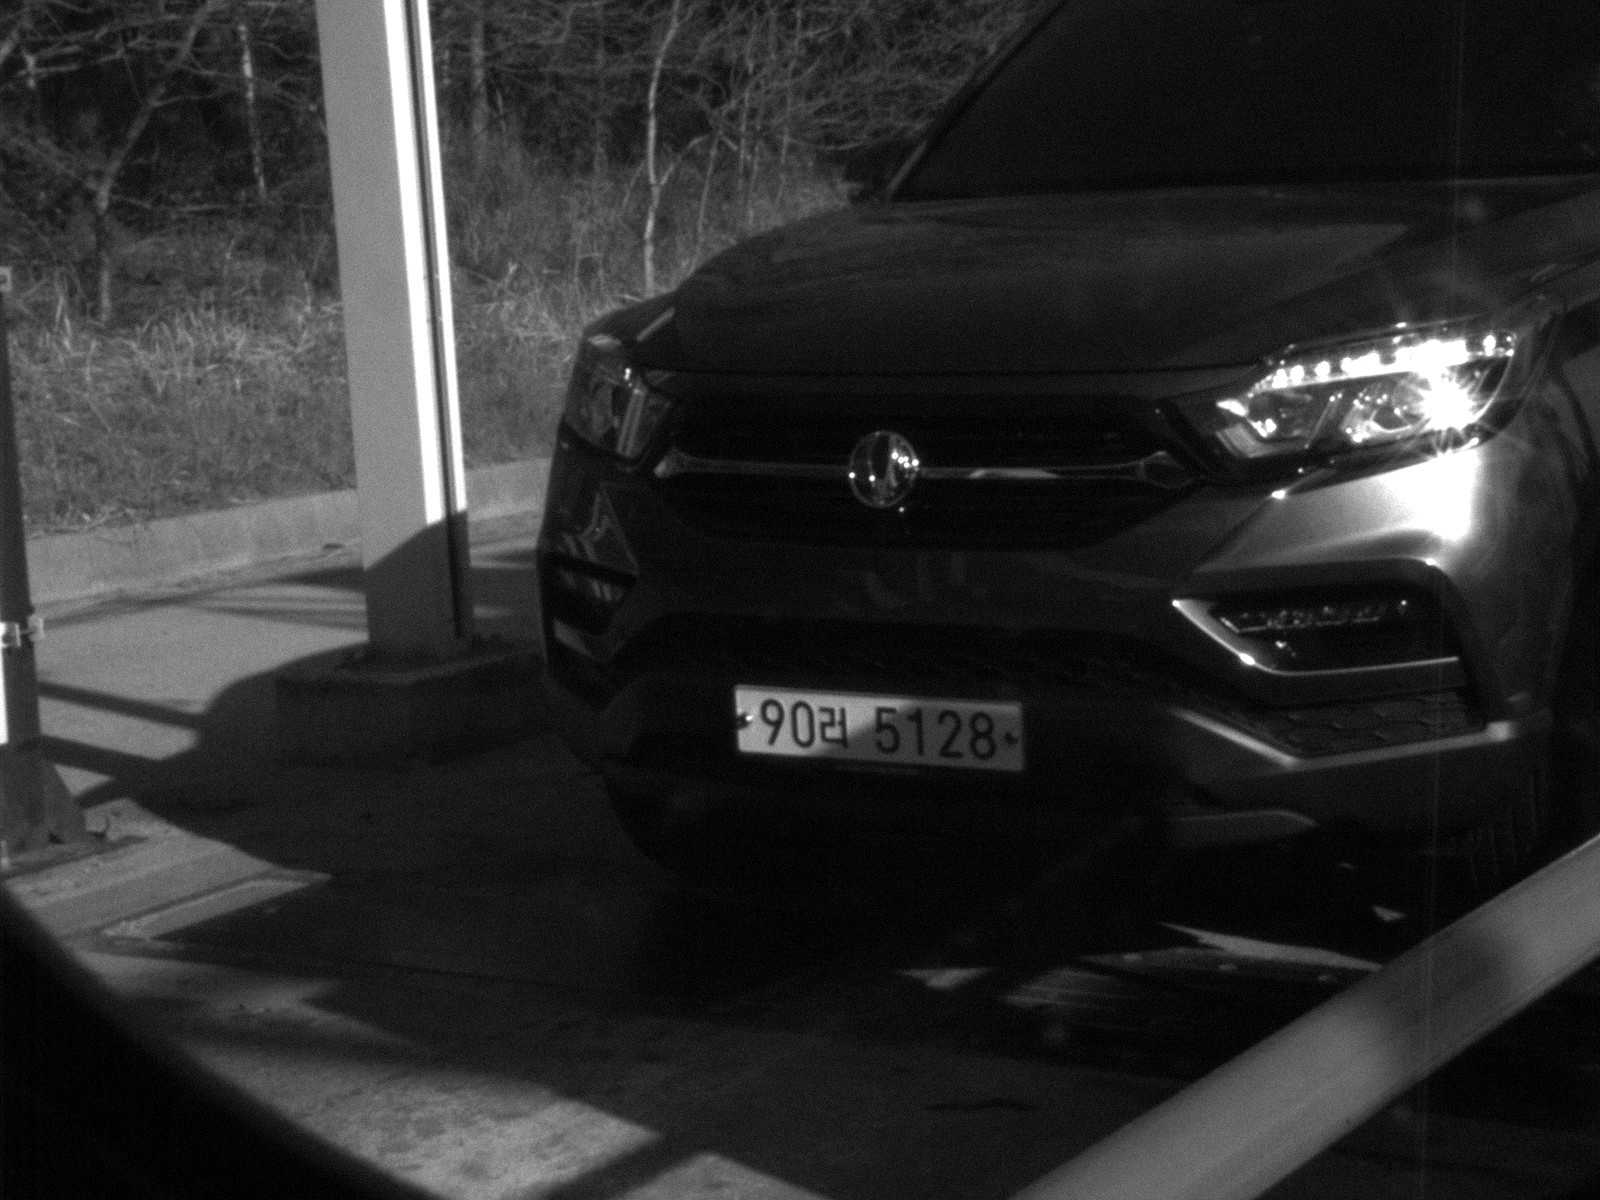car: (532, 2, 1600, 892)
plate: (727, 682, 1032, 778)
